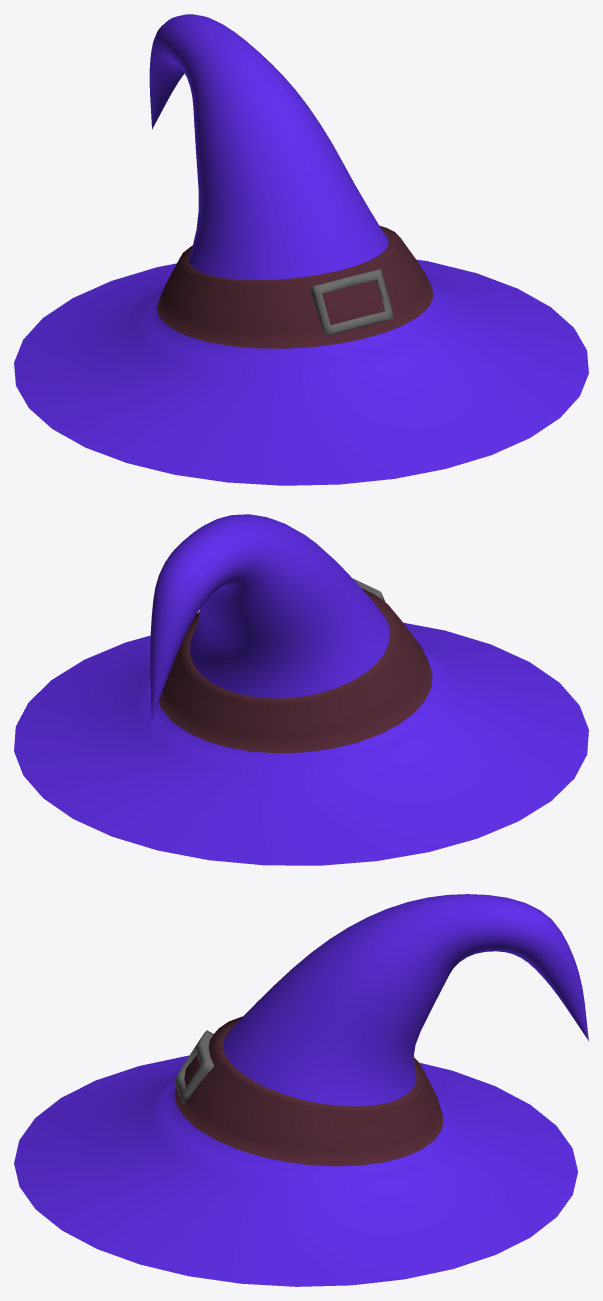
Rendered from wizardhat.fbx.
3 views of the same model, one above another, from view 1: azimuth 30°, elevation 25°; view 2: azimuth 150°, elevation 25°; view 3: azimuth 270°, elevation 25° (orthographic). The views are drawn at different scales.
Parts seen in each view (by area): view 1: SurfCircle; view 2: SurfCircle; view 3: SurfCircle.
Boxes of the visible parts, x1,y1,x2,y2 form: SurfCircle: (14,14,588,485); SurfCircle: (14,514,588,865); SurfCircle: (14,894,588,1286).
Bounding box in the file's own units: 318 × 170 × 324.
